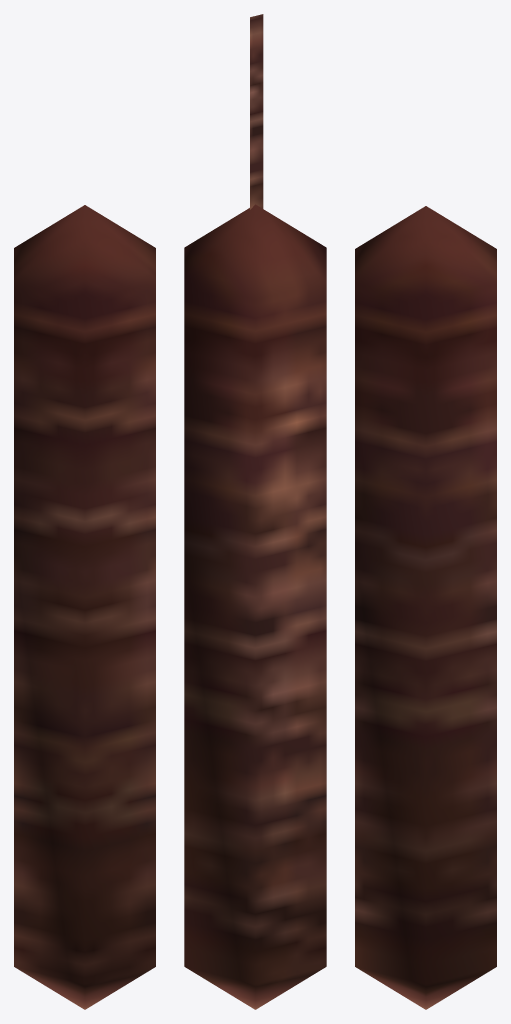
The model's file is OZ_24_ta_ham01A.glb.
3 renders of one model, left to right at view 1: azimuth 90°, elevation 25°; view 2: azimuth 210°, elevation 25°; view 3: azimuth 270°, elevation 25°, orthographic.
Parts seen in each view (by area): view 1: OM_24_ta_ham01A; view 2: OM_24_ta_ham01A; view 3: OM_24_ta_ham01A.
Boxes of the visible parts, x1,y1,x2,y2 form: OM_24_ta_ham01A: (14,205,155,1009); OM_24_ta_ham01A: (184,14,326,1009); OM_24_ta_ham01A: (355,206,496,1009).
Bounding box in the file's own units: 0.0953 × 0.6372 × 0.0825.
1 material, 1 textured.
